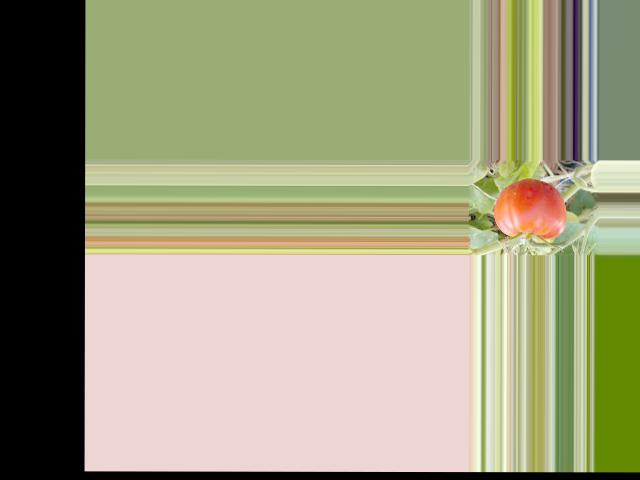tomato: (494, 178, 567, 238)
